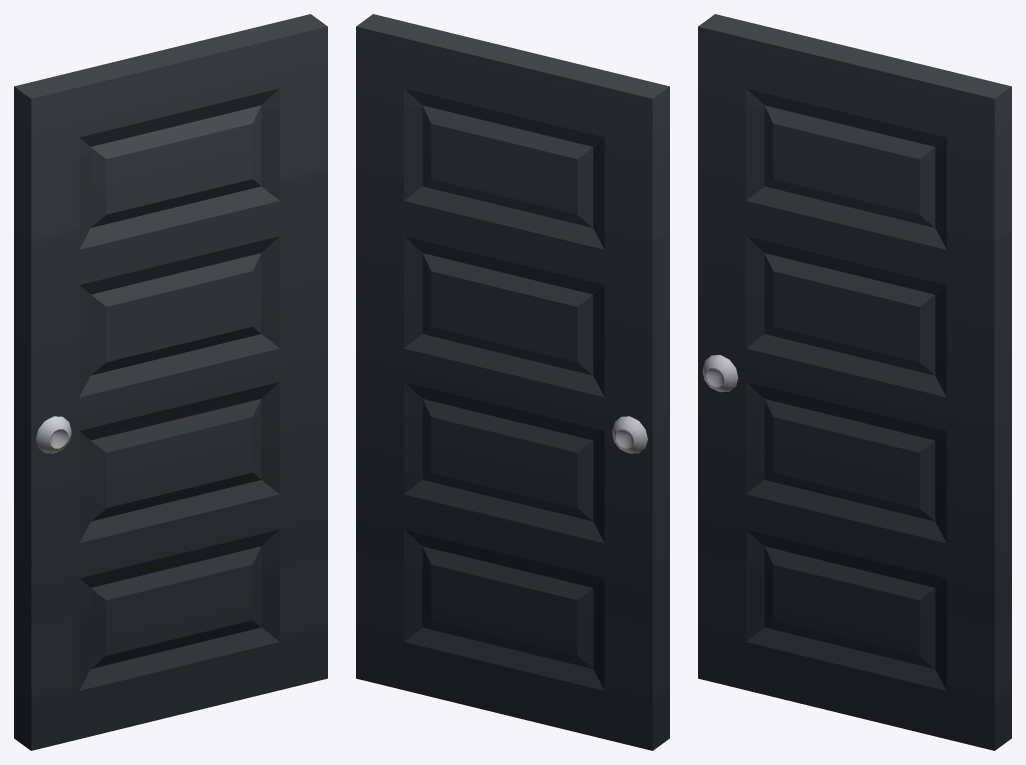
File: Door_Black_04.glb
3 views of the same model, side by side, from view 1: azimuth 30°, elevation 25°; view 2: azimuth 150°, elevation 25°; view 3: azimuth 330°, elevation 25° (orthographic).
Parts seen in each view (by area): view 1: Door_Black_04; view 2: Door_Black_04; view 3: Door_Black_04.
Boxes of the visible parts, box(x1,y1,x2,y2) form: Door_Black_04: box(14, 14, 327, 750); Door_Black_04: box(356, 14, 669, 750); Door_Black_04: box(698, 14, 1011, 750).
Bounding box in the file's own units: 1 × 2.1 × 0.1634.
1 material, 1 textured.
